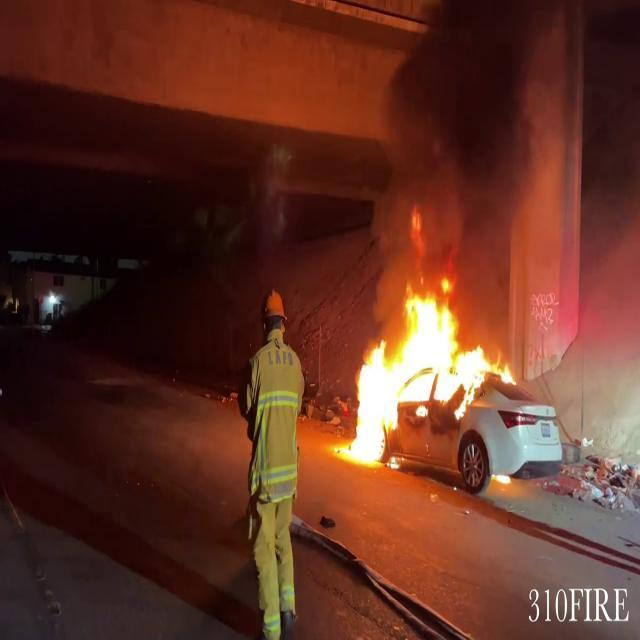Fire: (339, 270, 513, 468)
Smoke: (331, 0, 636, 288)
